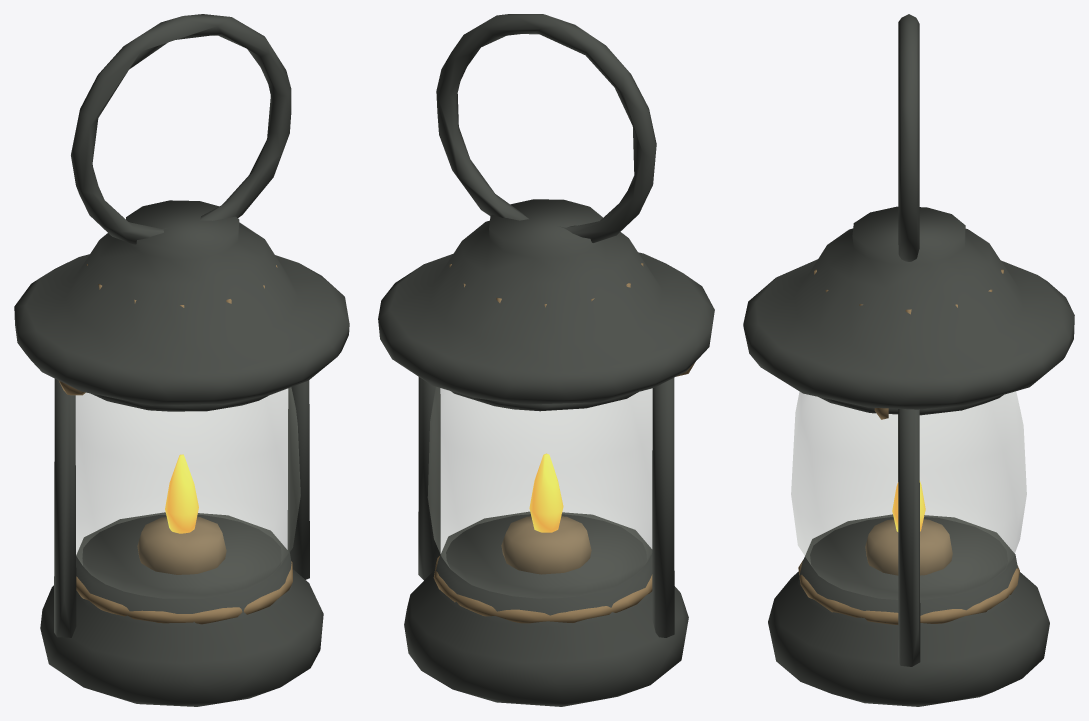
Rendered from hr-prop-storm-lantern-lod1.glb.
The picture shows the model from 3 angles, left to right: view 1: azimuth 30°, elevation 25°; view 2: azimuth 150°, elevation 25°; view 3: azimuth 270°, elevation 25°; orthographic projection.
Visible parts, largest first — view 1: rolled-foot, glass-chimney, burner-collar, wick-flame; view 2: rolled-foot, glass-chimney, burner-collar, wick-flame; view 3: rolled-foot, glass-chimney, burner-collar.
Part boxes in pixels (box(x1,y1,x2,y2)): rolled-foot: box(14, 14, 349, 706); glass-chimney: box(76, 387, 300, 597); burner-collar: box(58, 264, 292, 624); wick-flame: box(165, 454, 198, 533); rolled-foot: box(378, 14, 714, 706); glass-chimney: box(428, 387, 652, 597); burner-collar: box(433, 263, 694, 623); wick-flame: box(529, 453, 563, 532); rolled-foot: box(743, 14, 1074, 706); glass-chimney: box(791, 391, 1026, 599); burner-collar: box(798, 269, 1019, 624).
Bounding box in the file's own units: 0.3761 × 0.7974 × 0.3761.
